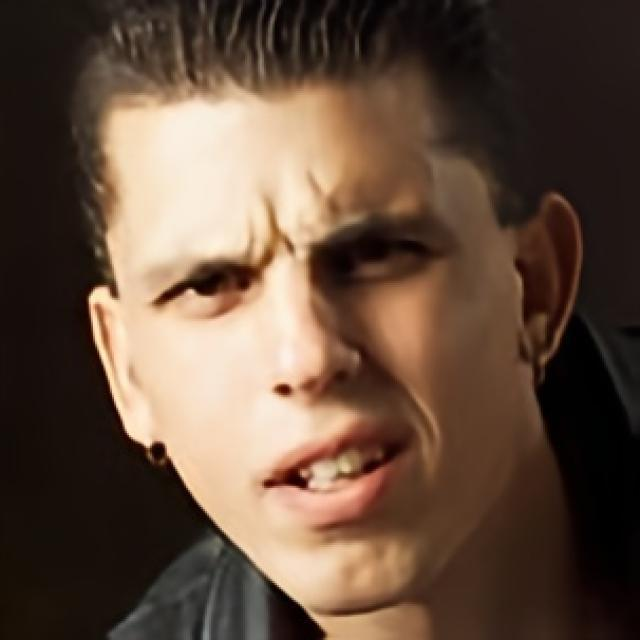anger: (116, 54, 518, 594)
